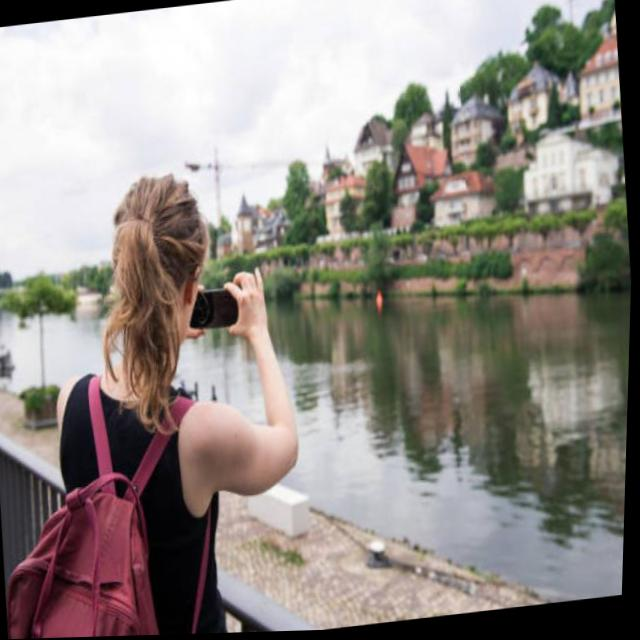no helmet: (101, 167, 225, 407)
